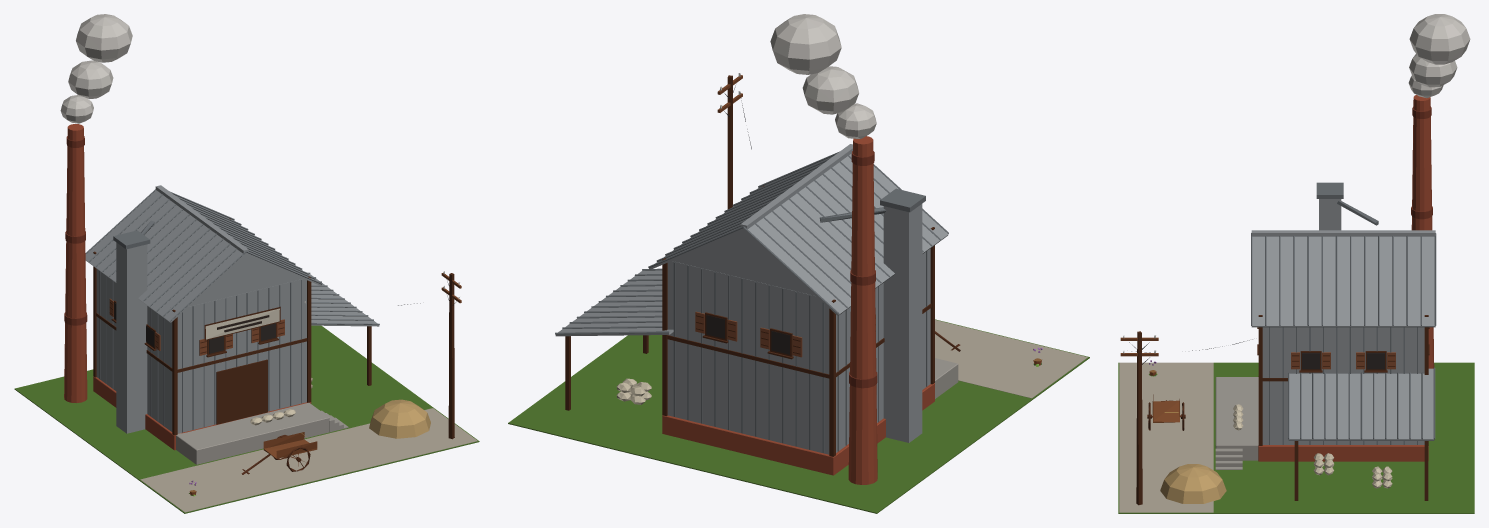
File: factory_3.glb
3 views of the same model, side by side, from view 1: azimuth 30°, elevation 25°; view 2: azimuth 150°, elevation 25°; view 3: azimuth 270°, elevation 25° (orthographic). The views are drawn at different scales.
Parts seen in each view (by area): view 1: body, windows; view 2: body, windows; view 3: body, windows.
Boxes of the visible parts, left/top/right/bottom form: body: left=14, top=14, right=479, bottom=513; windows: left=114, top=303, right=275, bottom=353; body: left=508, top=14, right=1089, bottom=513; windows: left=706, top=315, right=789, bottom=354; body: left=1118, top=14, right=1474, bottom=513; windows: left=1302, top=353, right=1384, bottom=369.
Bounding box in the file's own units: 15.9 × 19.06 × 15.9.
